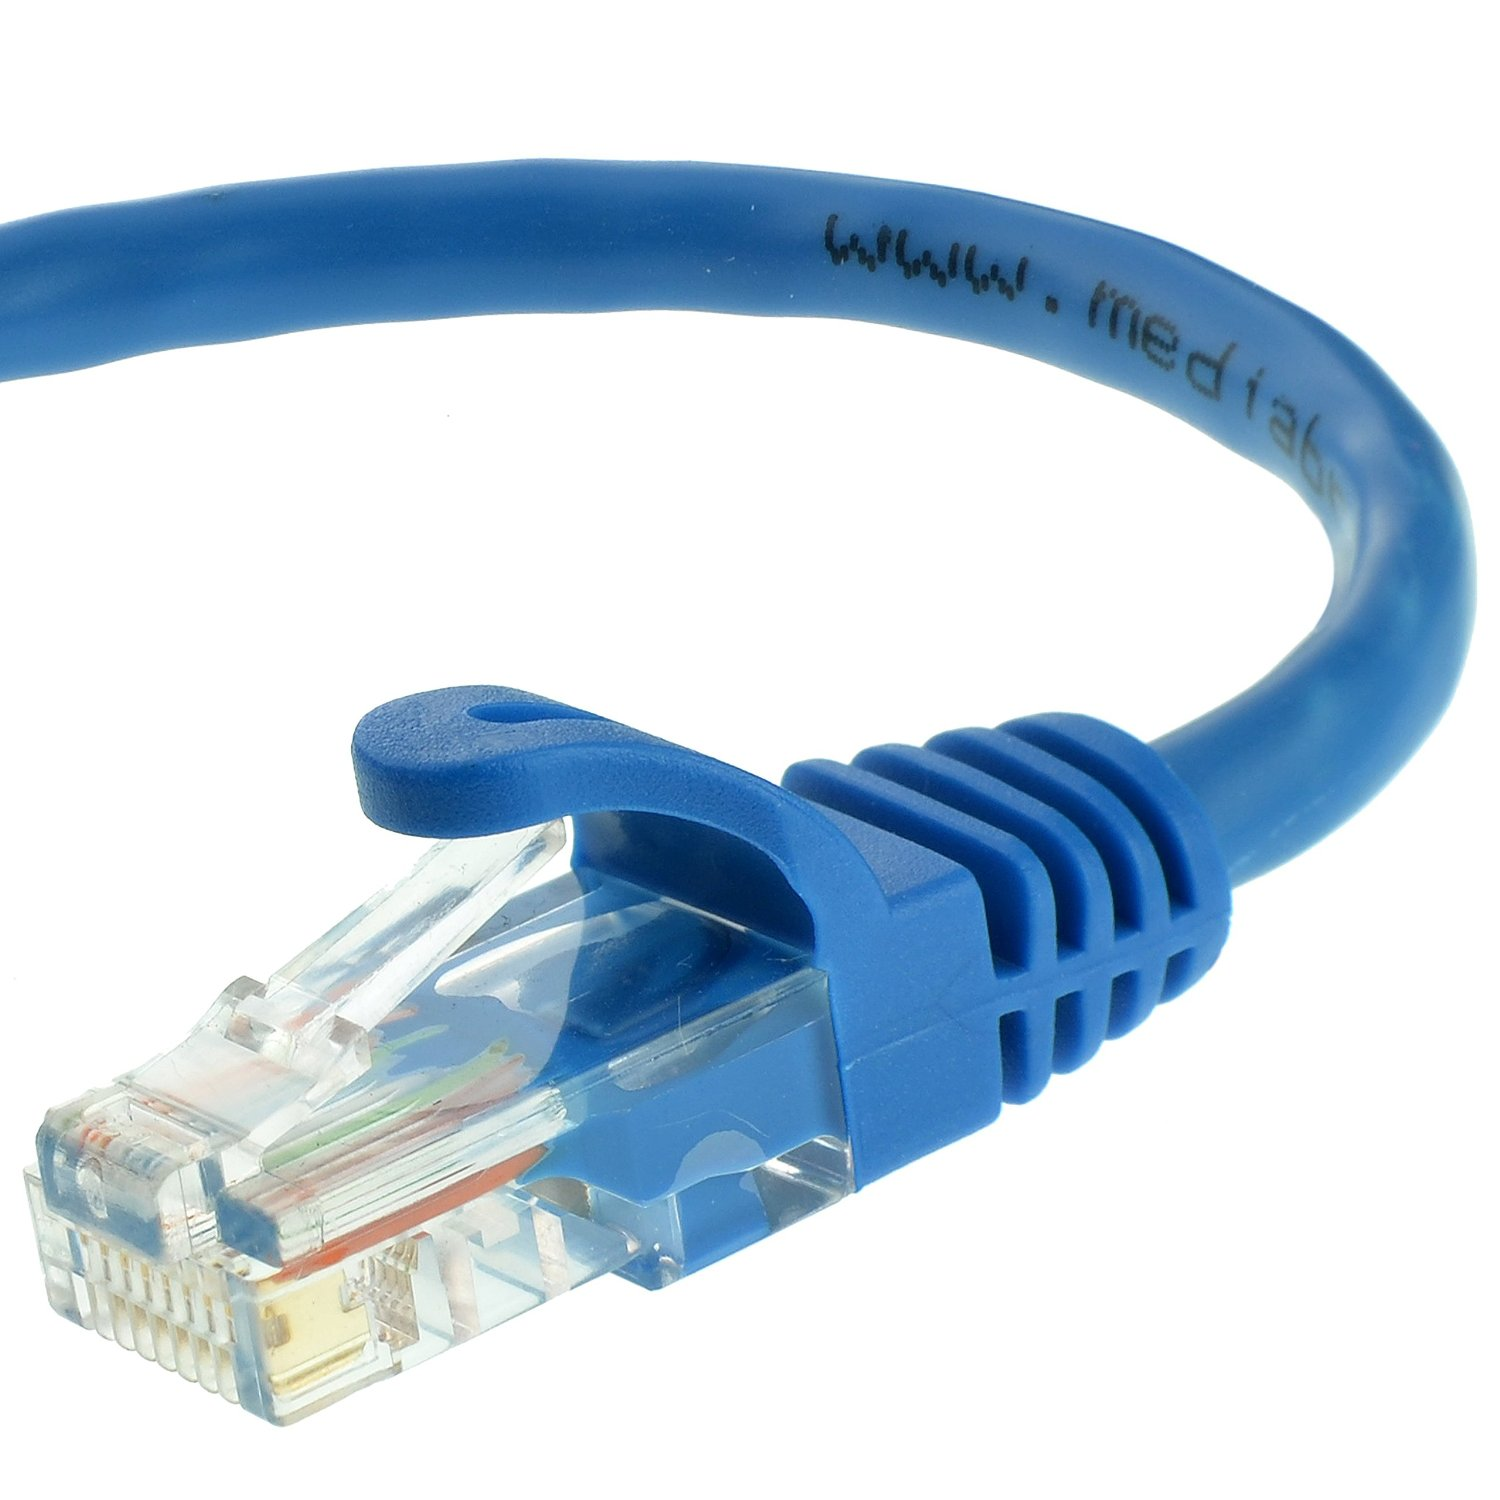Nonrec_Tangler: (7, 109, 1484, 1418)
